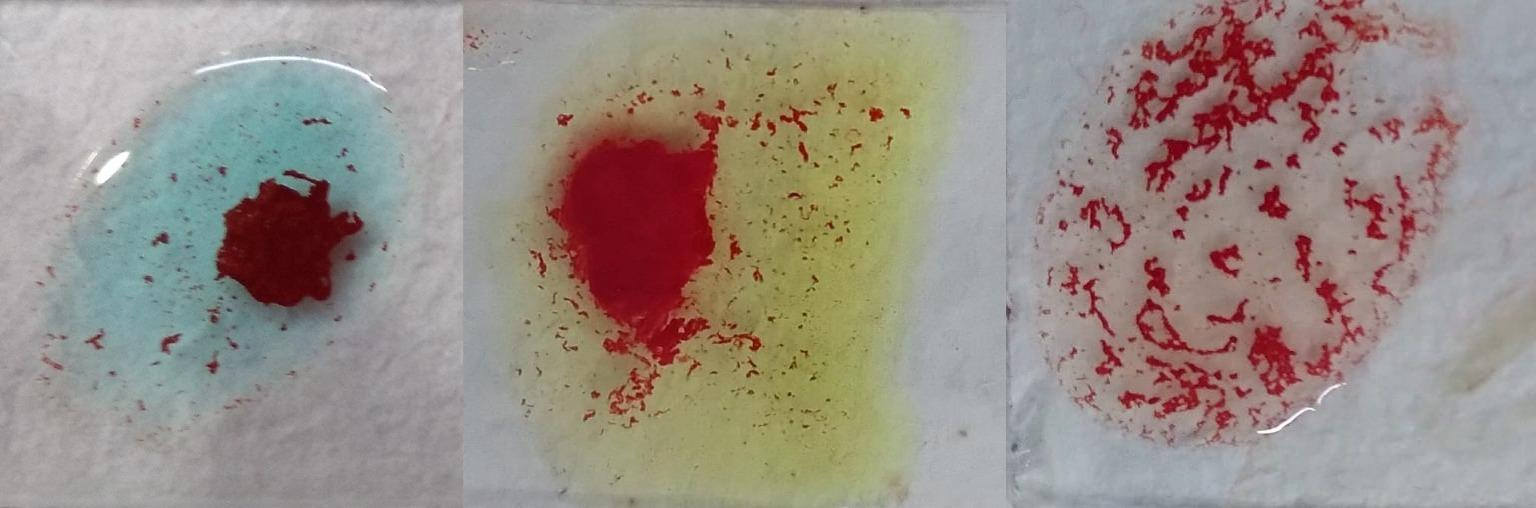A: (67, 56, 396, 420)
B: (516, 20, 881, 474)
D: (1046, 10, 1447, 443)
